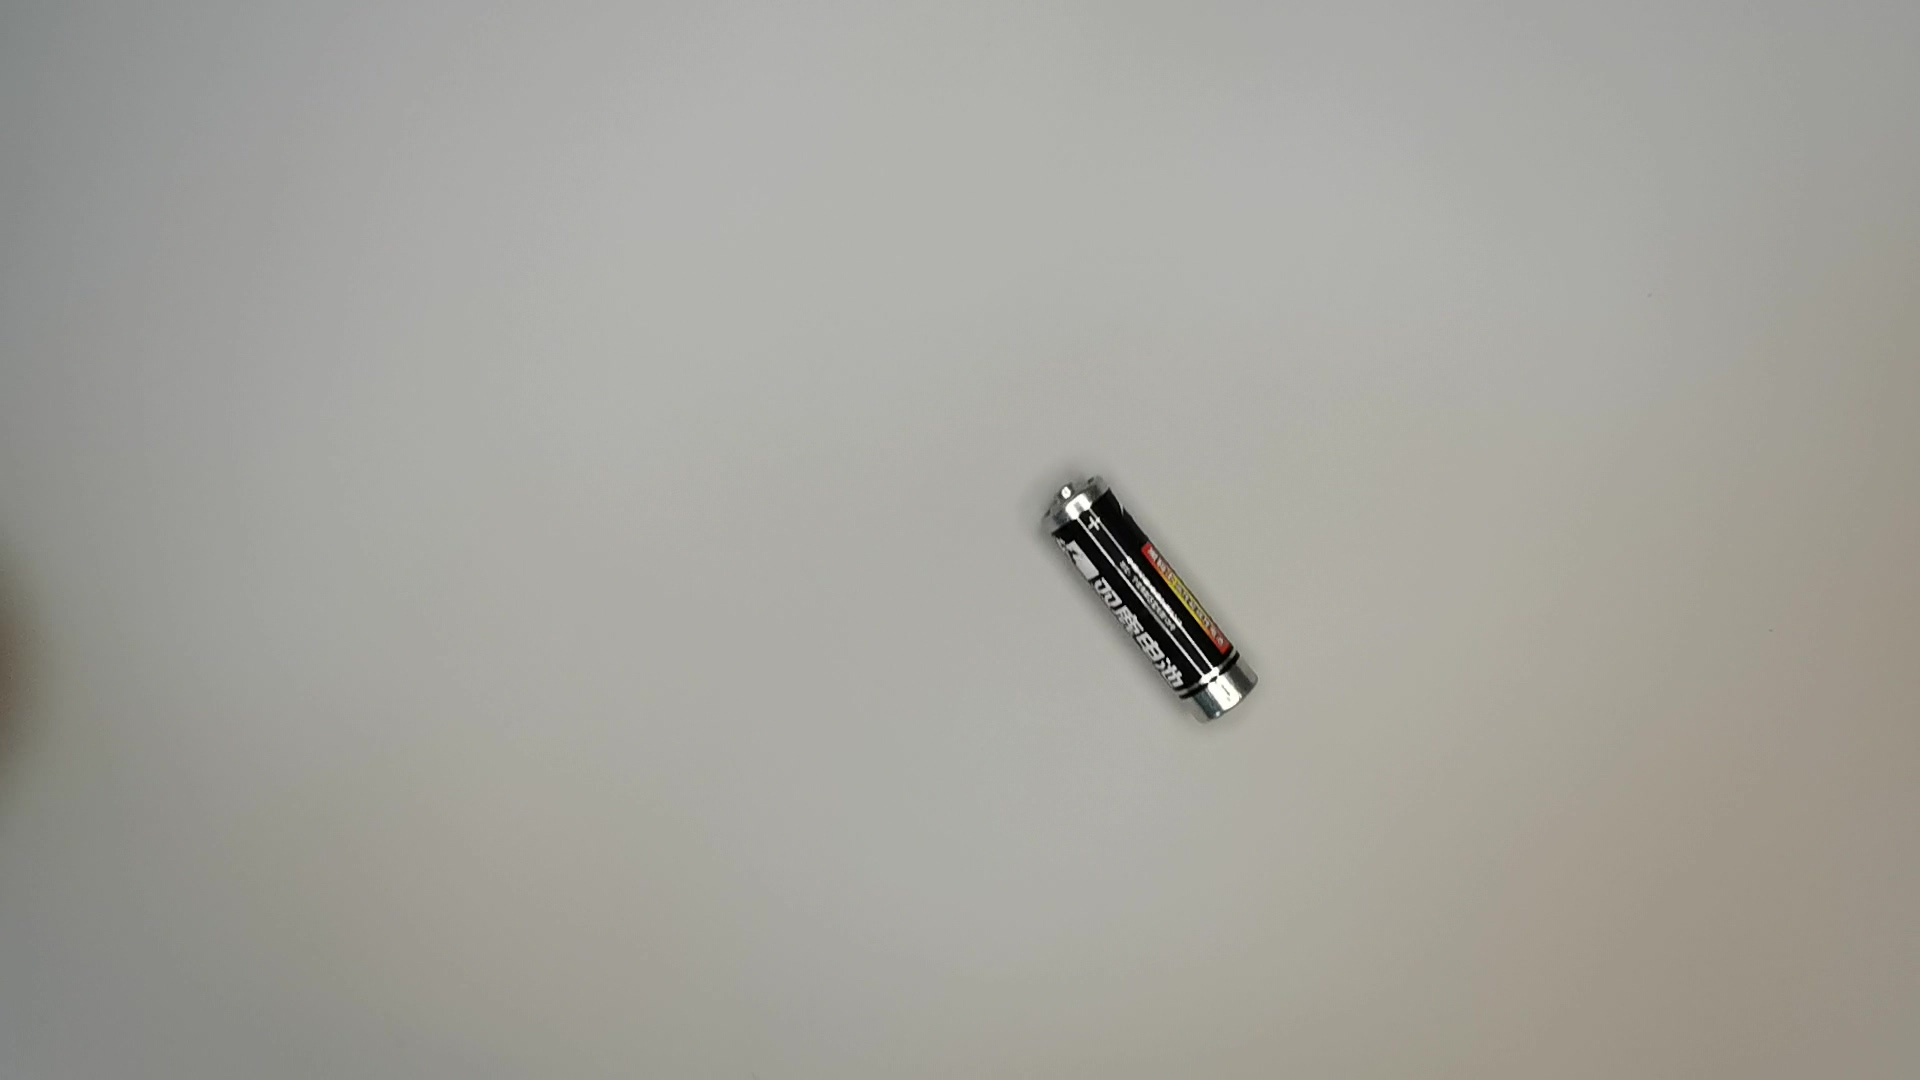battery: (1040, 465, 1263, 728)
